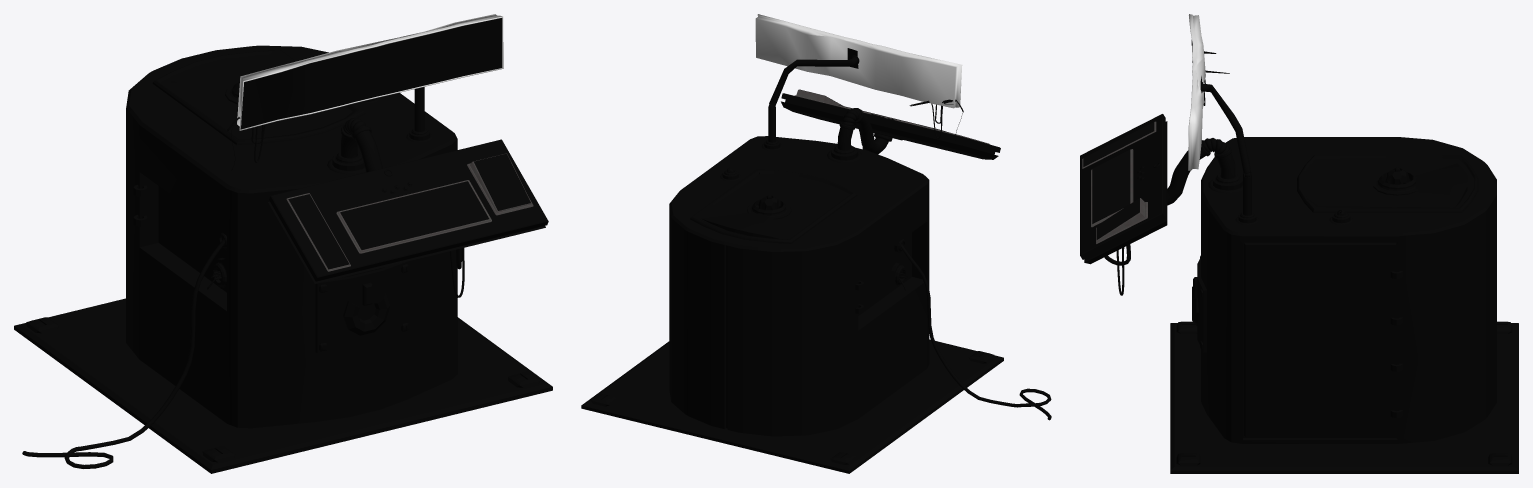
The model's file is terminal.glb.
3 renders of one model, left to right at view 1: azimuth 30°, elevation 25°; view 2: azimuth 150°, elevation 25°; view 3: azimuth 270°, elevation 25°, orthographic. The views are drawn at different scales.
Visible parts, largest first — view 1: SM_Terminal; view 2: SM_Terminal; view 3: SM_Terminal.
Boxes of the visible parts, x1,y1,x2,y2 form: SM_Terminal: (14, 14, 552, 473); SM_Terminal: (581, 14, 1051, 473); SM_Terminal: (1080, 14, 1518, 473).
Size of the model in its own units: 2.29 by 1.78 by 2.11.
Materials: 3 (1 with a texture image).
